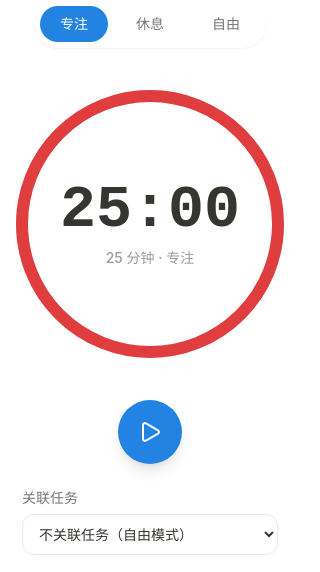
Test: FocusTimer › mode pill switches duration to 5:00 for break
The image size is (320, 572).
What coordinates should you click on to do the following:
click the button "休息"
I would click on:
 (150, 24)
Its box is [116,6,184,42].
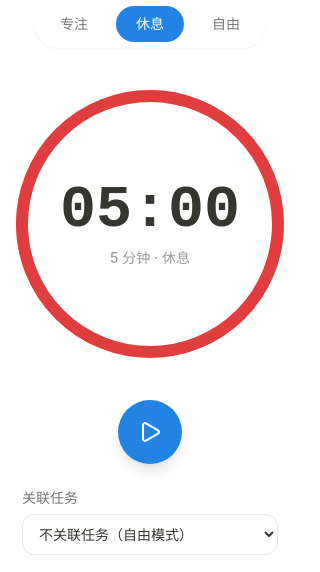
Check: the text "05:00" is shown, box [60,180,240,240]
